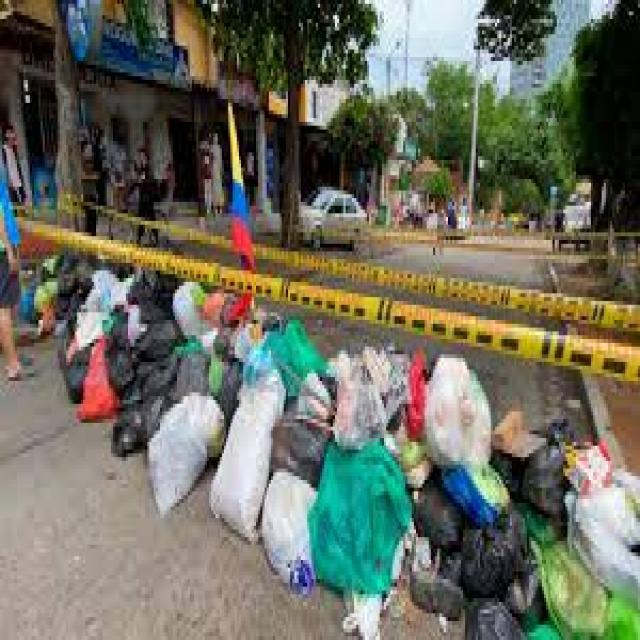garbage: (51, 253, 640, 640)
